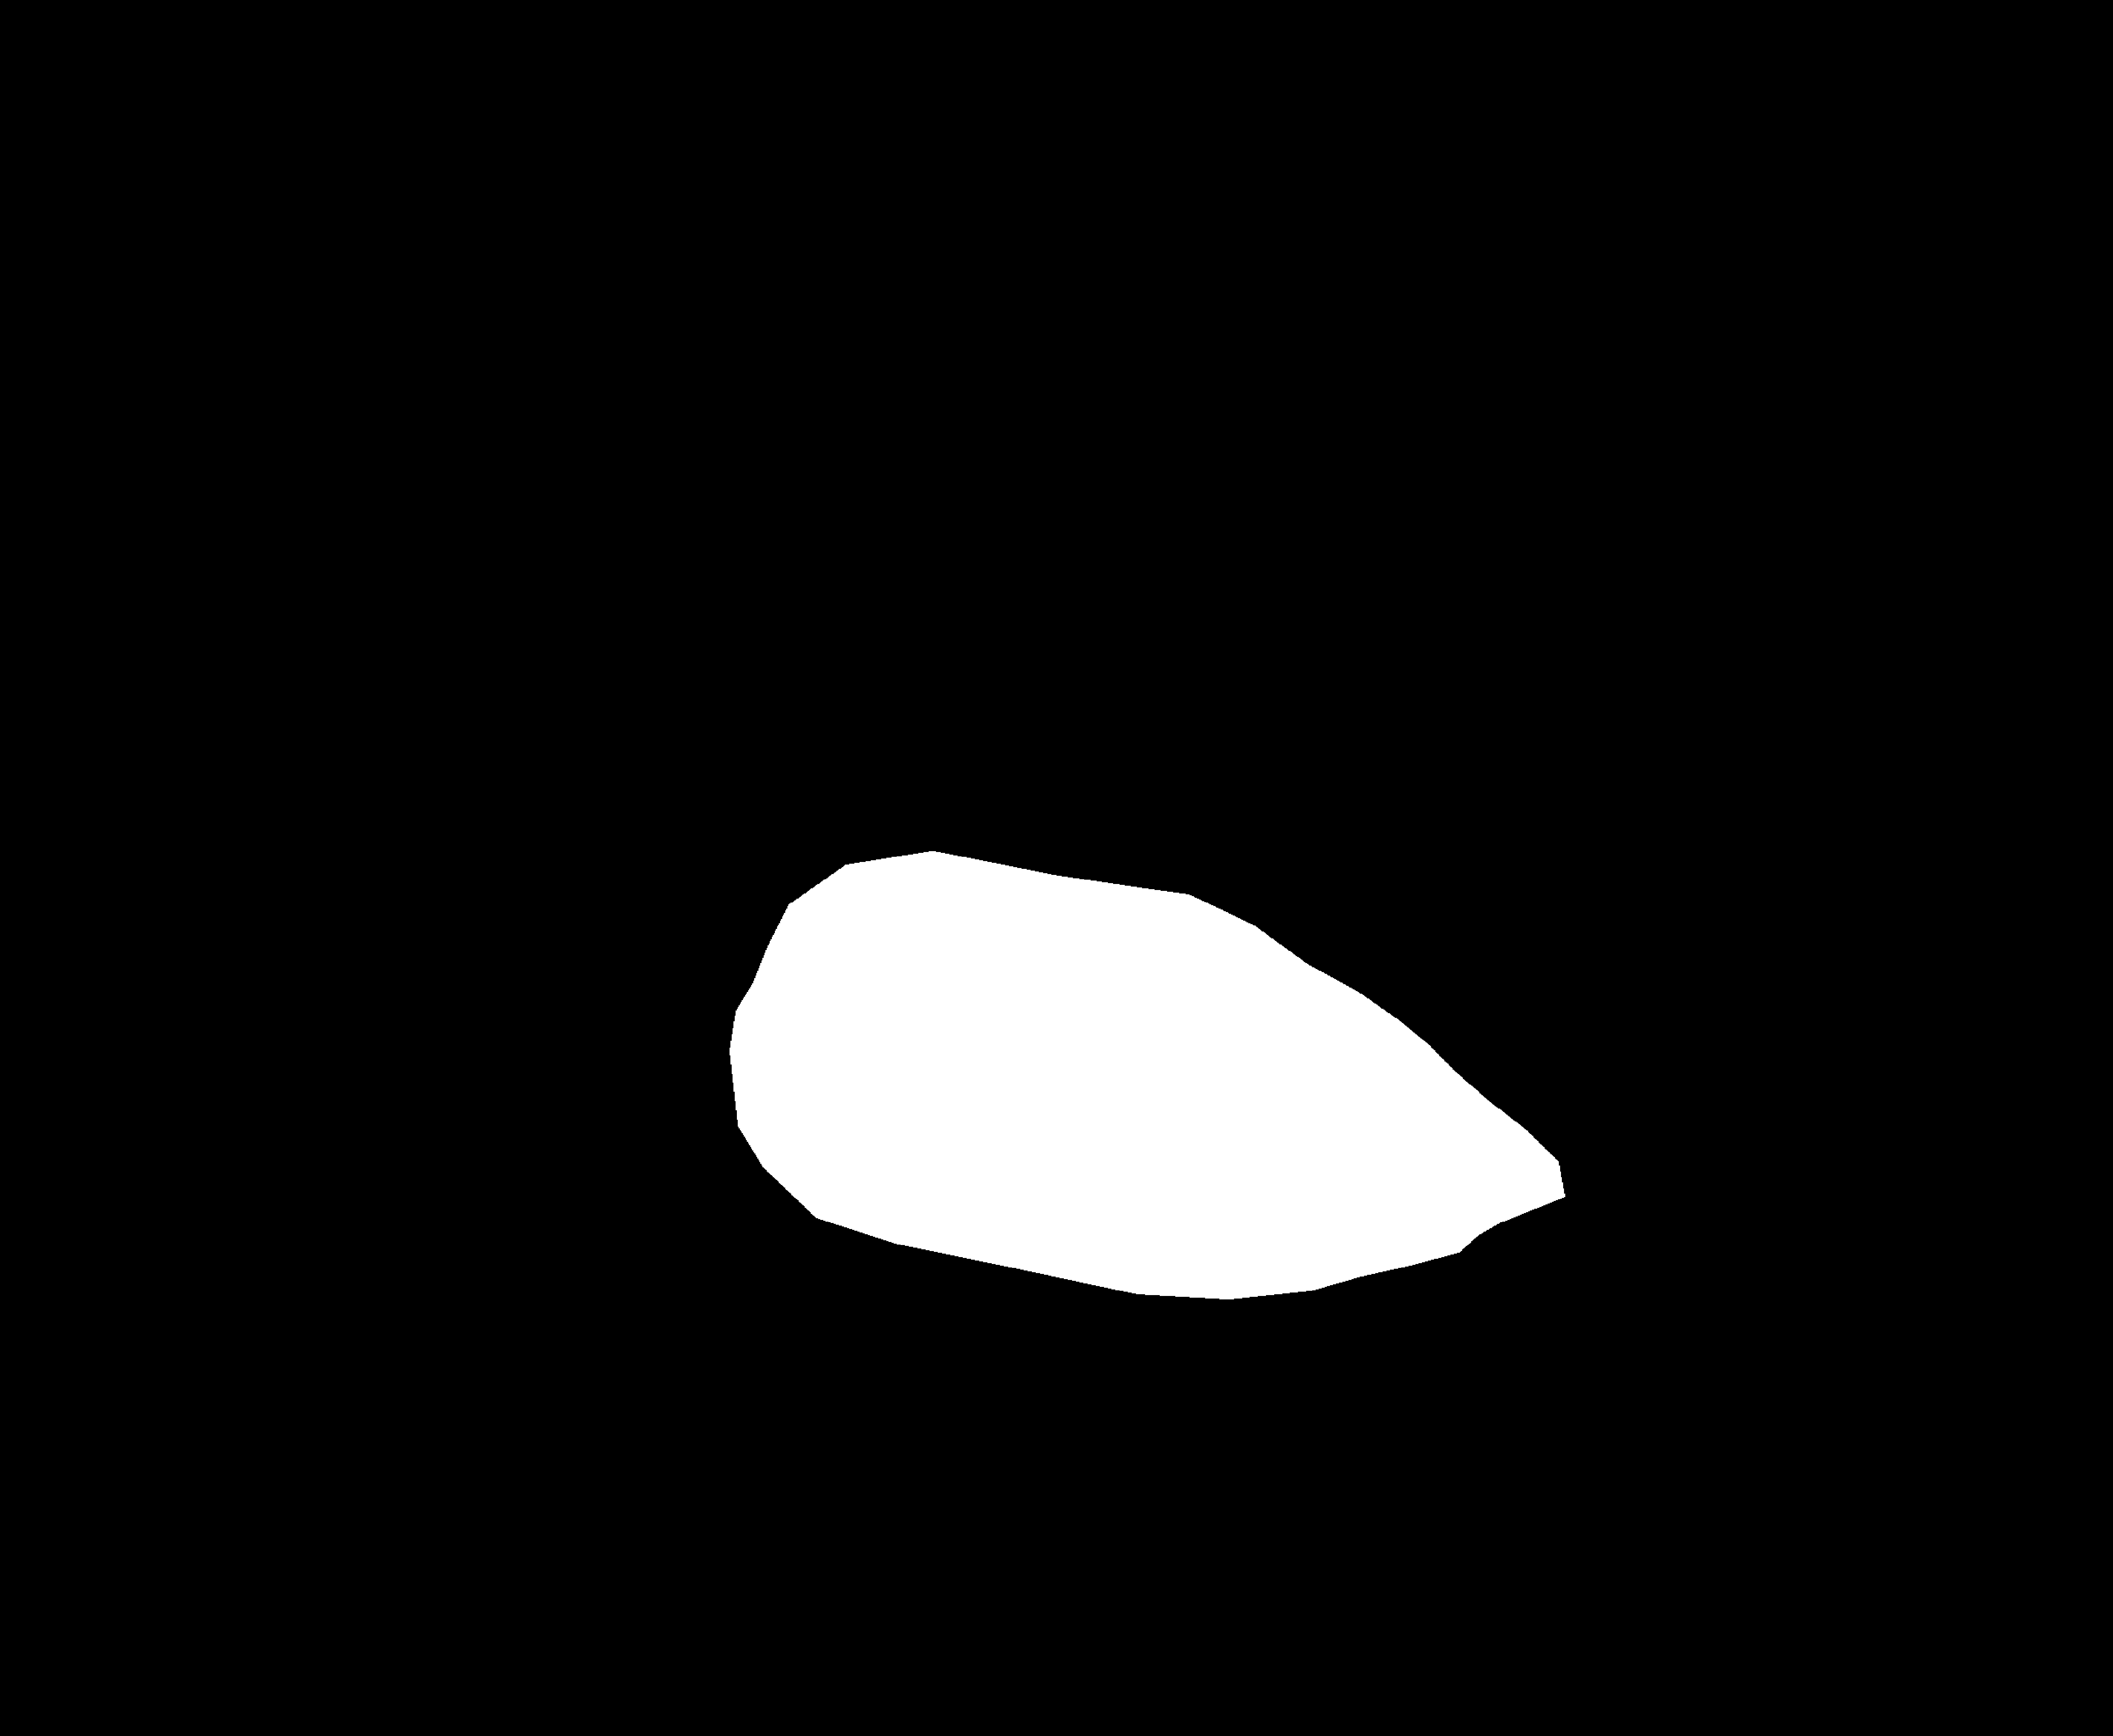heart: (832, 883, 1567, 1329)
left_lung: (326, 288, 1027, 1510)
right_lung: (1169, 251, 1904, 1469)
